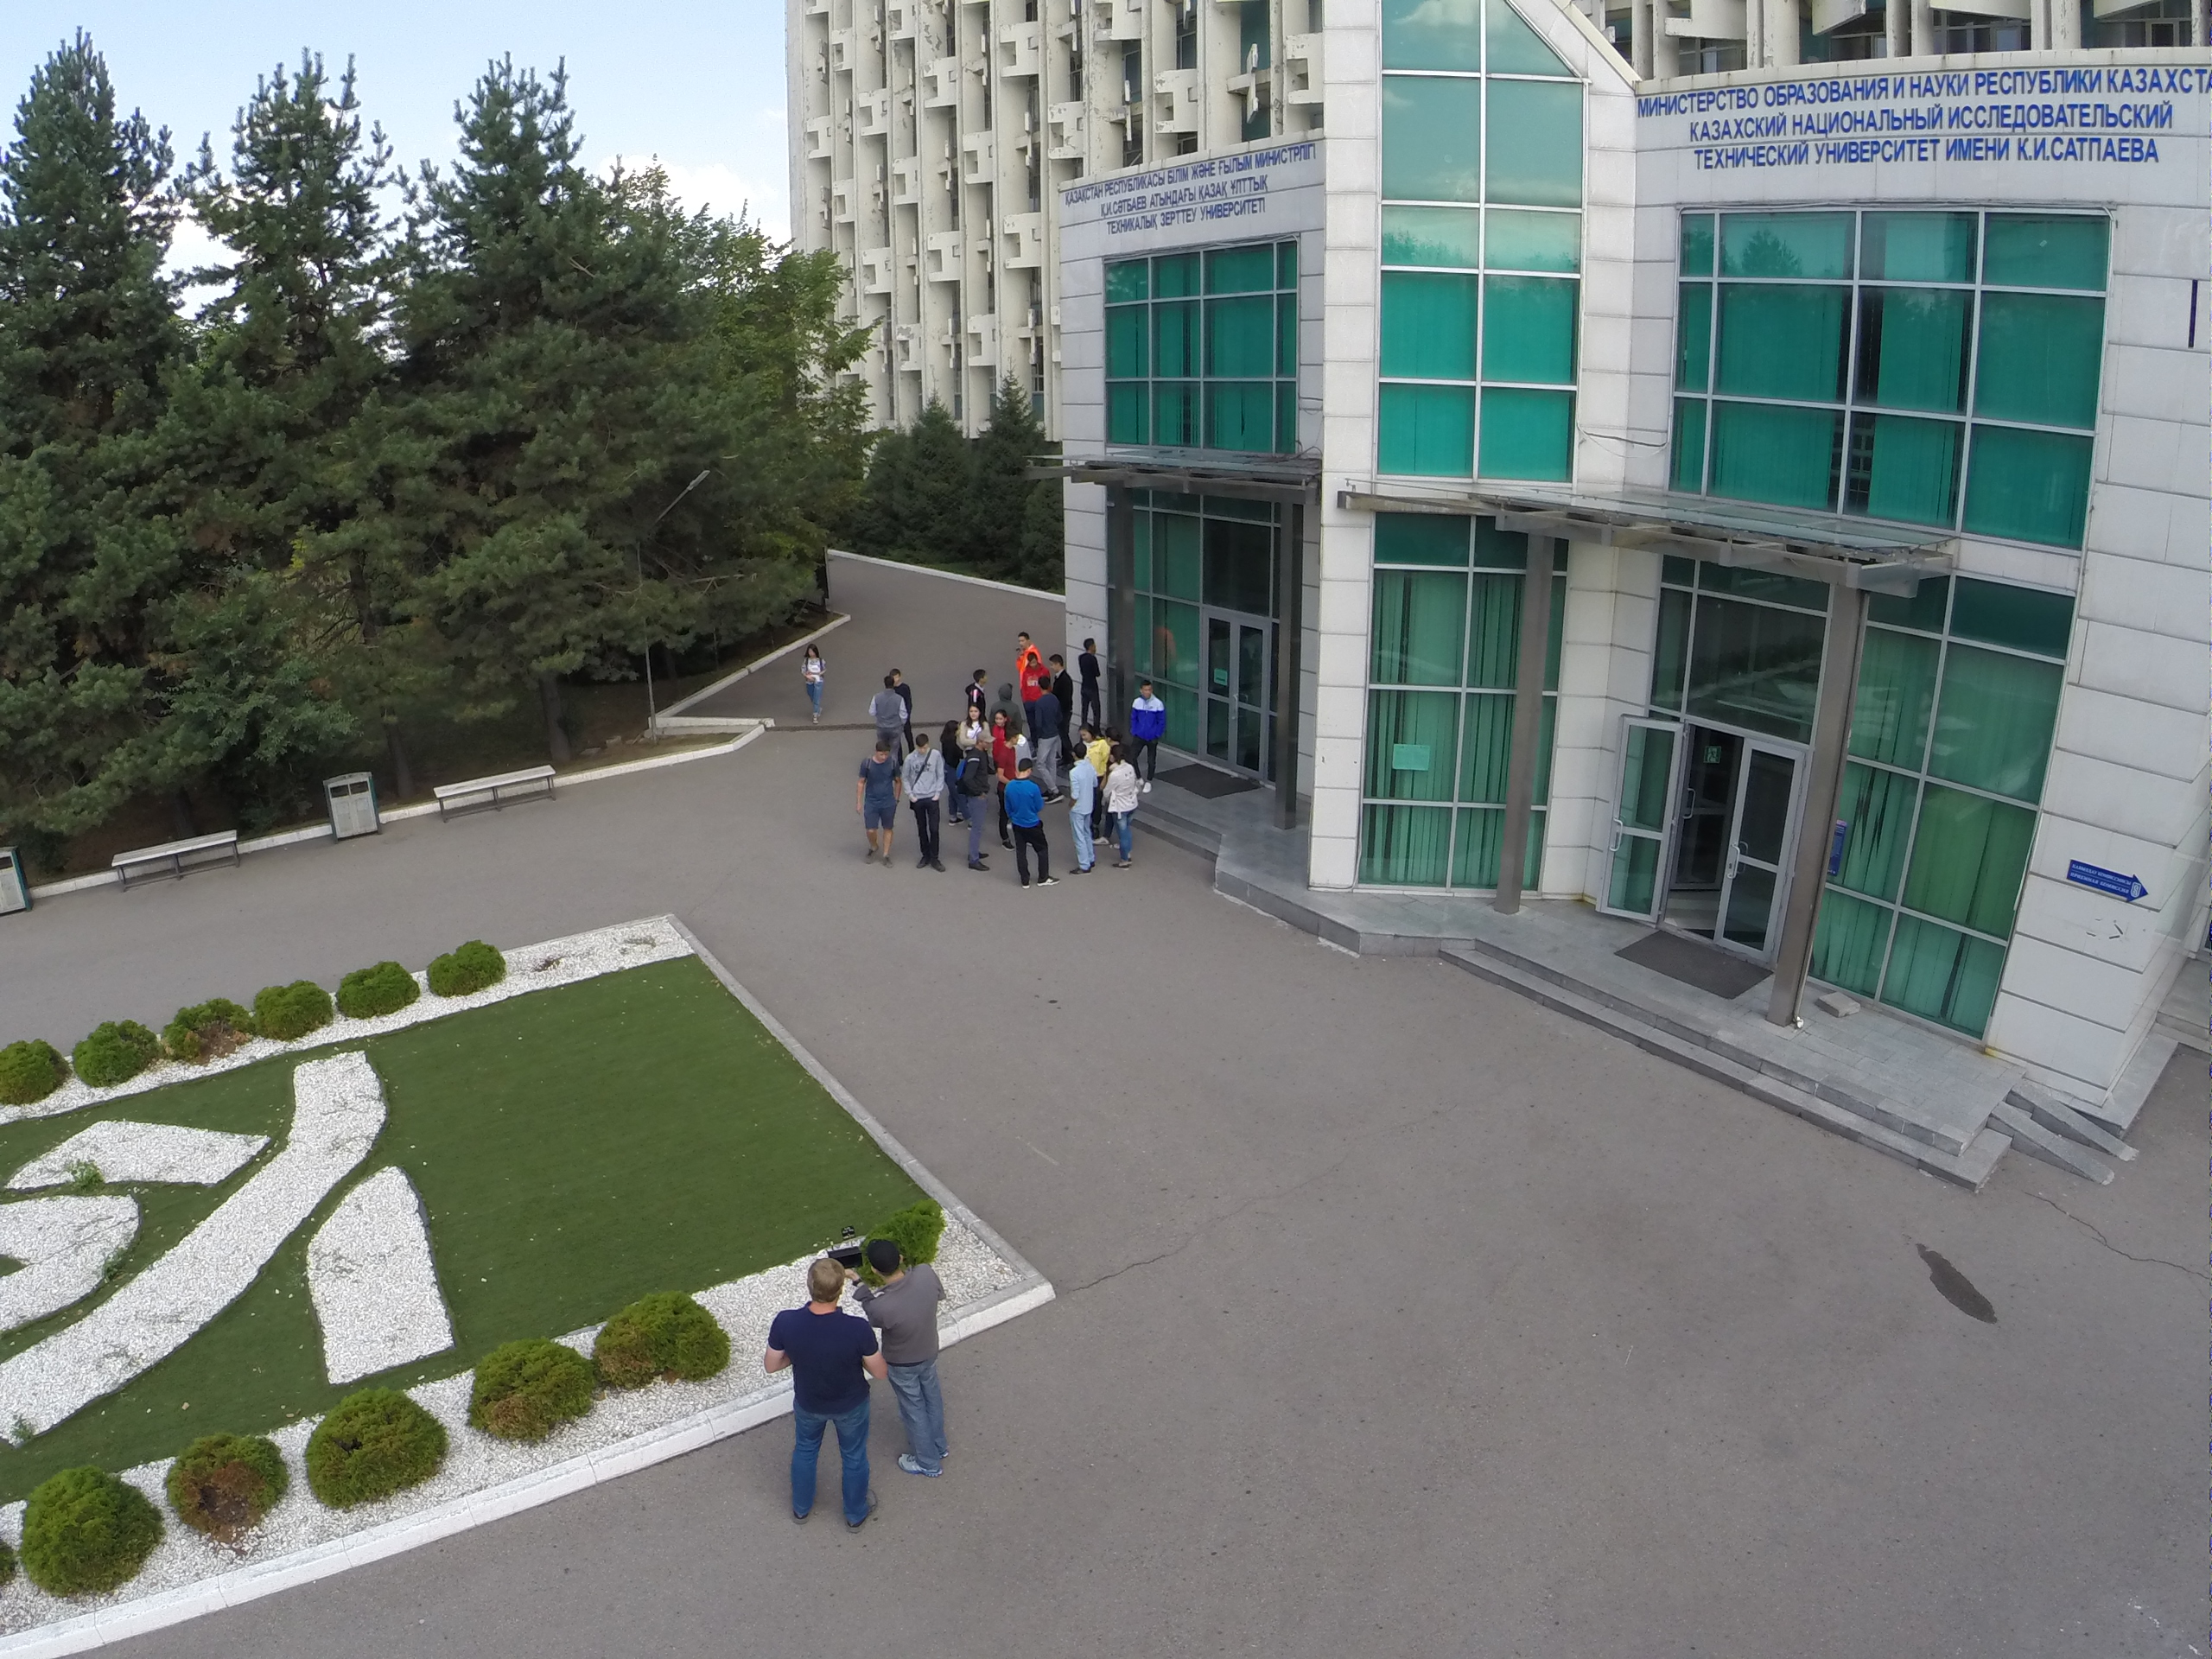person: (755, 1258, 879, 1535), (853, 1236, 956, 1480), (1004, 760, 1060, 893), (902, 733, 949, 876), (854, 743, 903, 869), (959, 732, 992, 876), (1132, 680, 1168, 797), (1035, 678, 1067, 804), (1108, 751, 1139, 870), (1069, 744, 1095, 881), (866, 681, 909, 757), (1078, 641, 1109, 728), (800, 642, 827, 726), (998, 728, 1022, 779), (992, 682, 1021, 713), (966, 665, 988, 703), (1024, 650, 1039, 702), (963, 705, 985, 735)
